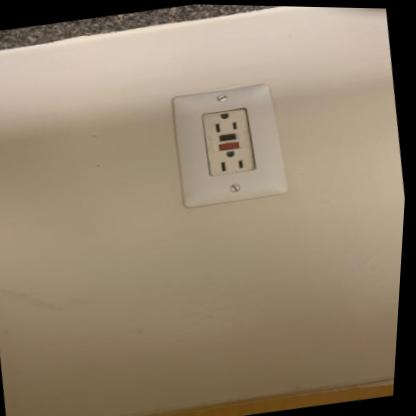OUTLET: (164, 79, 292, 212)
